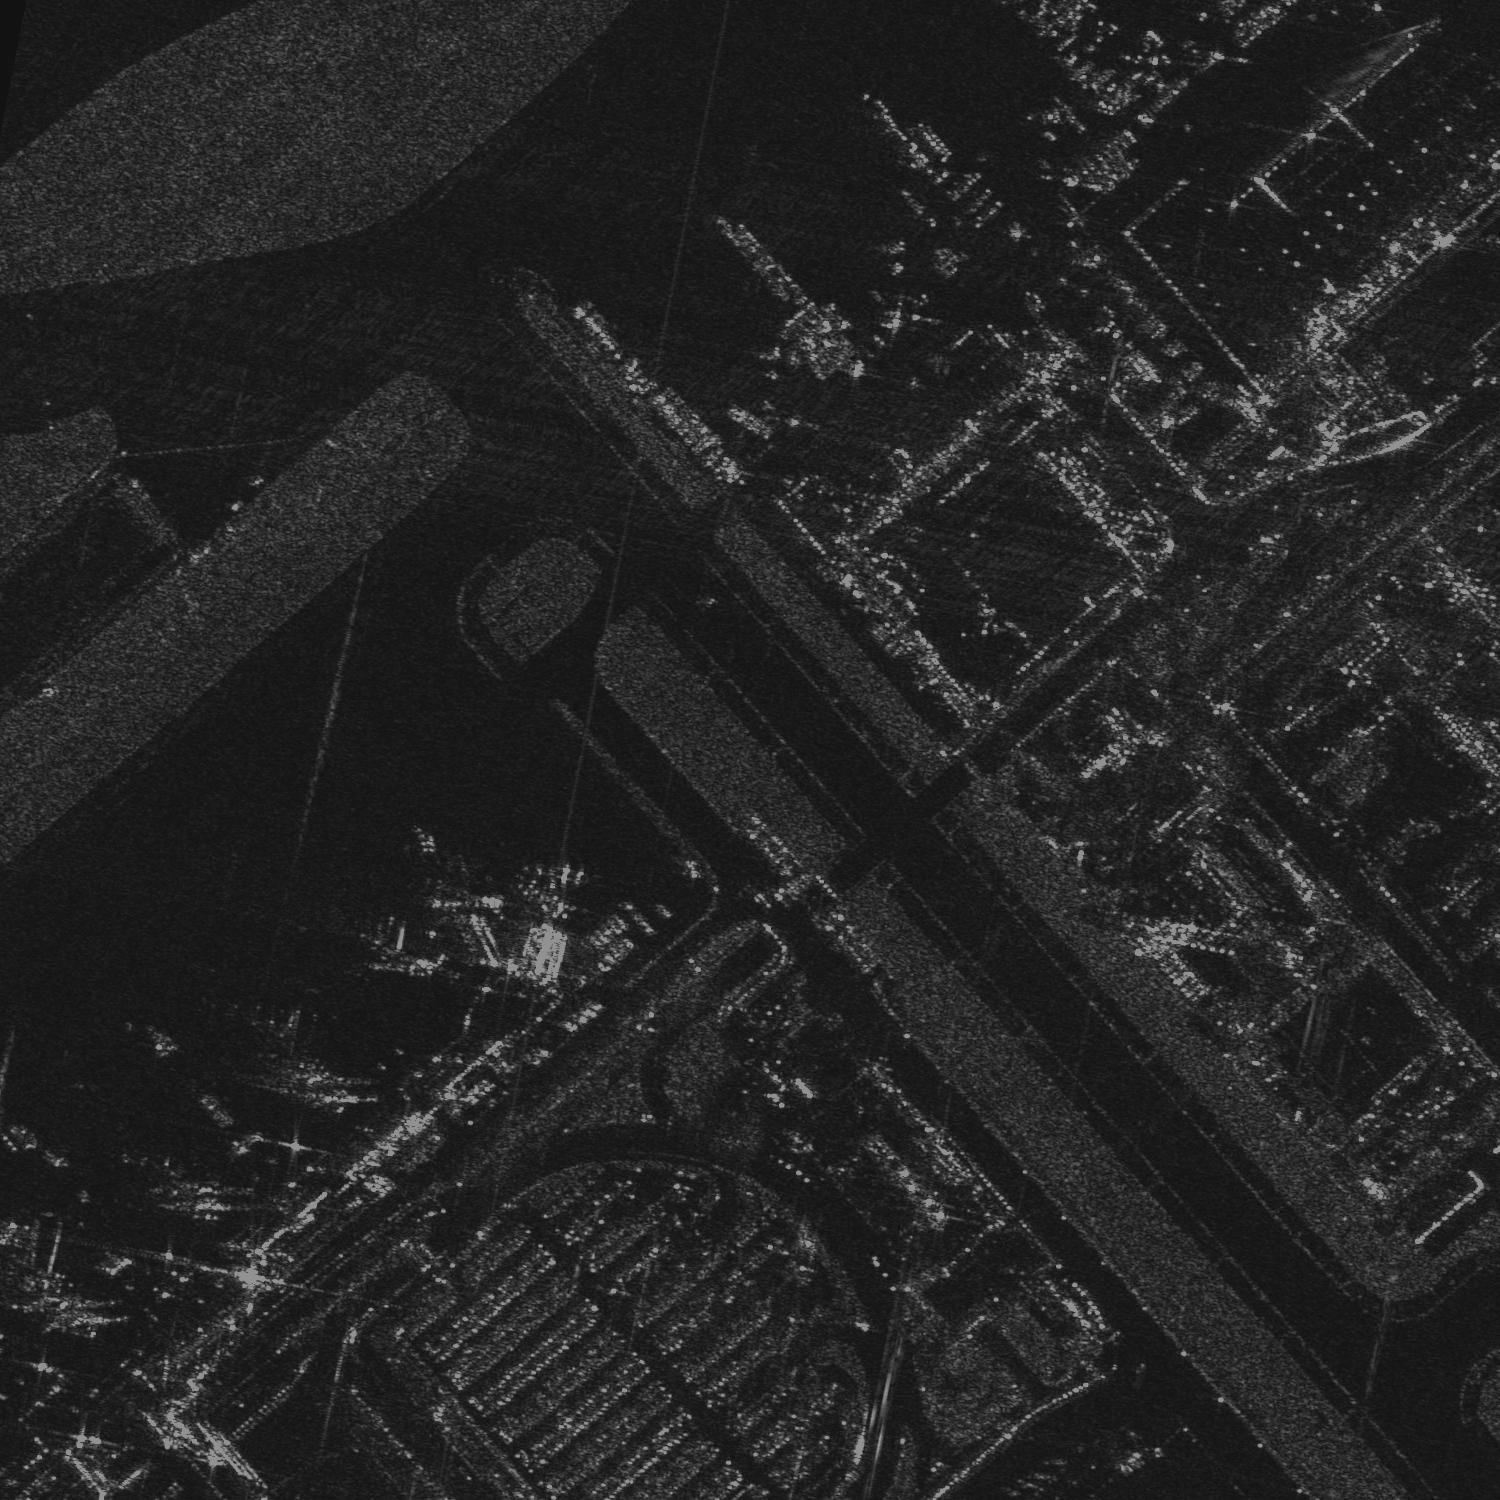Boeing737: (426, 852, 507, 920), (234, 1005, 304, 1070), (359, 912, 411, 981)
Boeing787: (1, 1212, 71, 1295), (519, 853, 604, 922)
